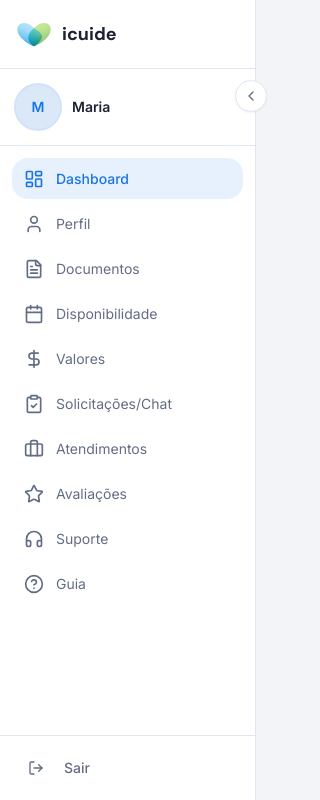
AppSidebar › colapsa sidebar ao clicar no botão de toggle
What coordinates should you click on to do the following:
click the button named "Recolher menu"
I would click on:
 (251, 96)
Its box is [235,80,267,112].
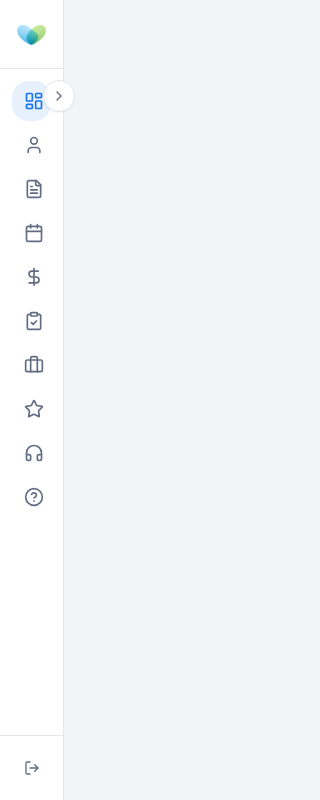
Expected: the text "Maria" is gone
Expected: the text "icuide" is gone
